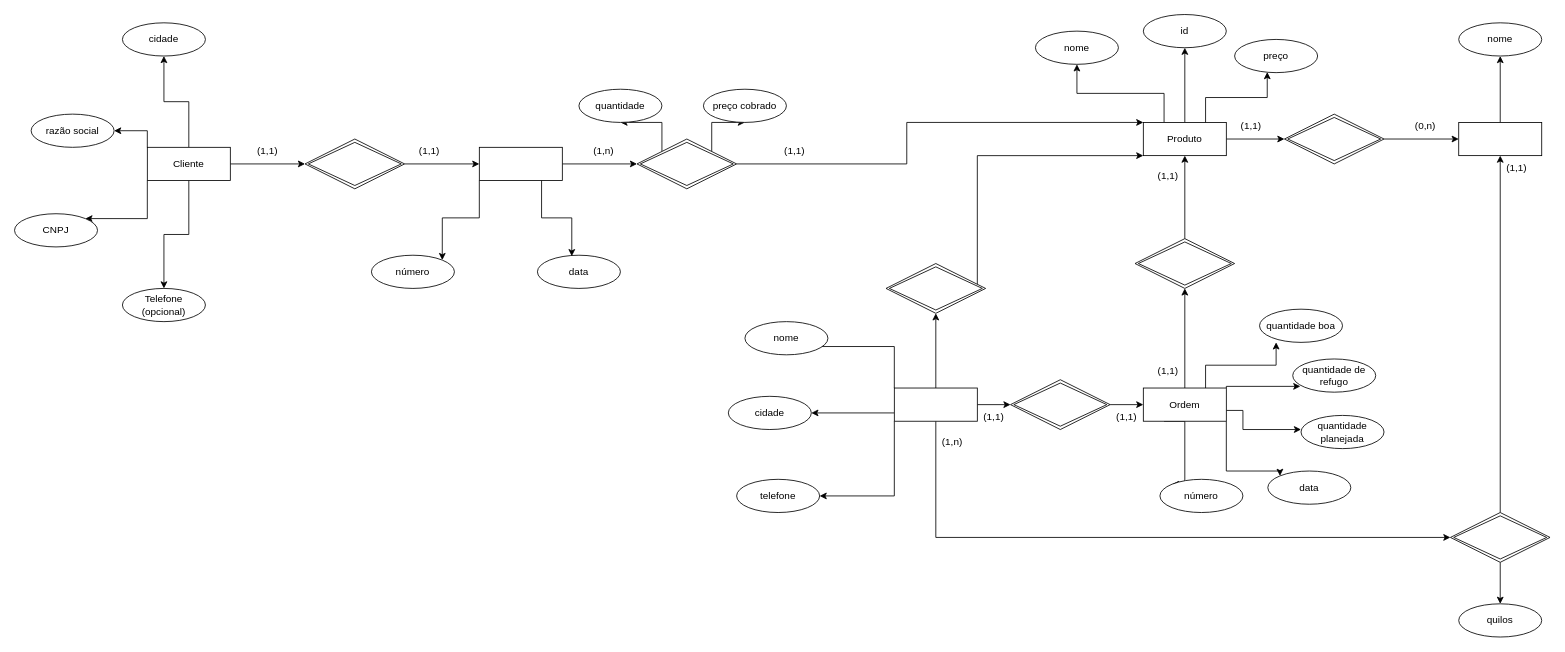
The diagram is 1565 pixels wide and 652 high, and some of its shapes have lost their labels. The shapes that lost their labels are listed below. From the top down, each one's centre as x and y in pixels, then its label:
[1334,138]: feito
[1500,139]: Resina
[354,163]: realiza
[520,163]: Expedição
[686,163]: leva
[1184,263]: fabrica
[935,288]: tem
[935,404]: Unidade
[1060,404]: emite
[1500,537]: guarda
